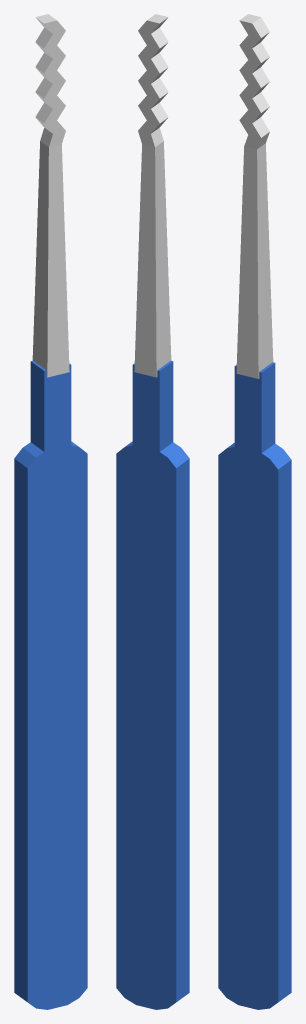
File: DOT_LyingLockpick_Mesh.fbx
3 views of the same model, side by side, from view 1: azimuth 30°, elevation 25°; view 2: azimuth 150°, elevation 25°; view 3: azimuth 330°, elevation 25° (orthographic).
Parts seen in each view (by area): view 1: Cube; view 2: Cube; view 3: Cube.
Boxes of the visible parts, left/top/right/bottom form: Cube: left=14, top=14, right=87, bottom=1009; Cube: left=116, top=14, right=189, bottom=1009; Cube: left=218, top=14, right=291, bottom=1009.
Bounding box in the file's own units: 6.22 × 97.62 × 2.69.
